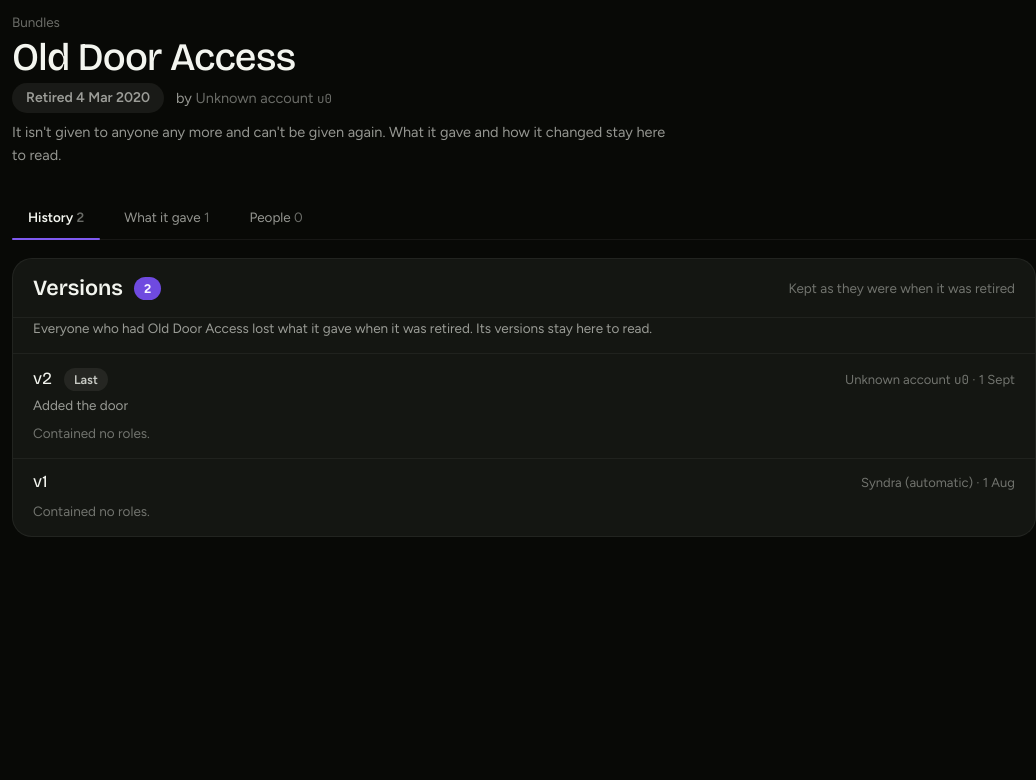
Test: a retired bundle's page › reads what it gave in its last version, and says nobody has it
The image size is (1036, 780).
Click the button "What it gave 1" at coordinates (167, 217), box [108,195,226,239]
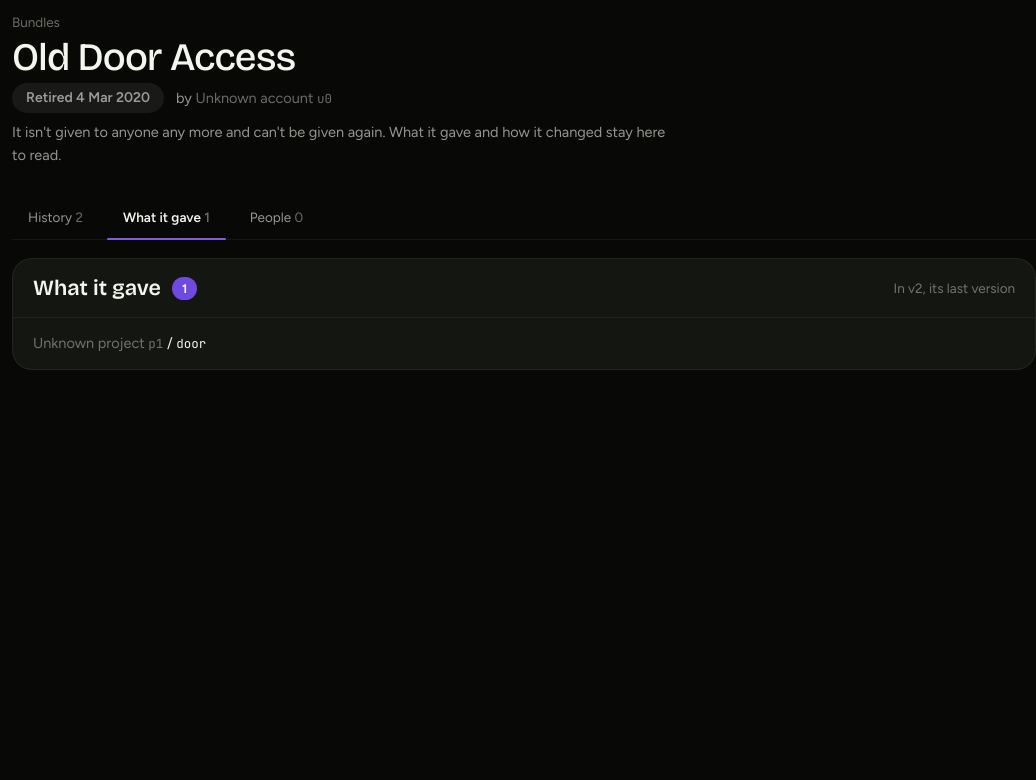
Expected: the text "door" is shown, [176,335,206,352]
Result: the text "In v2, its last version" is shown at [894,278,1015,299]
Click the button "People 0" at coordinates (276, 217), box [234,195,319,239]
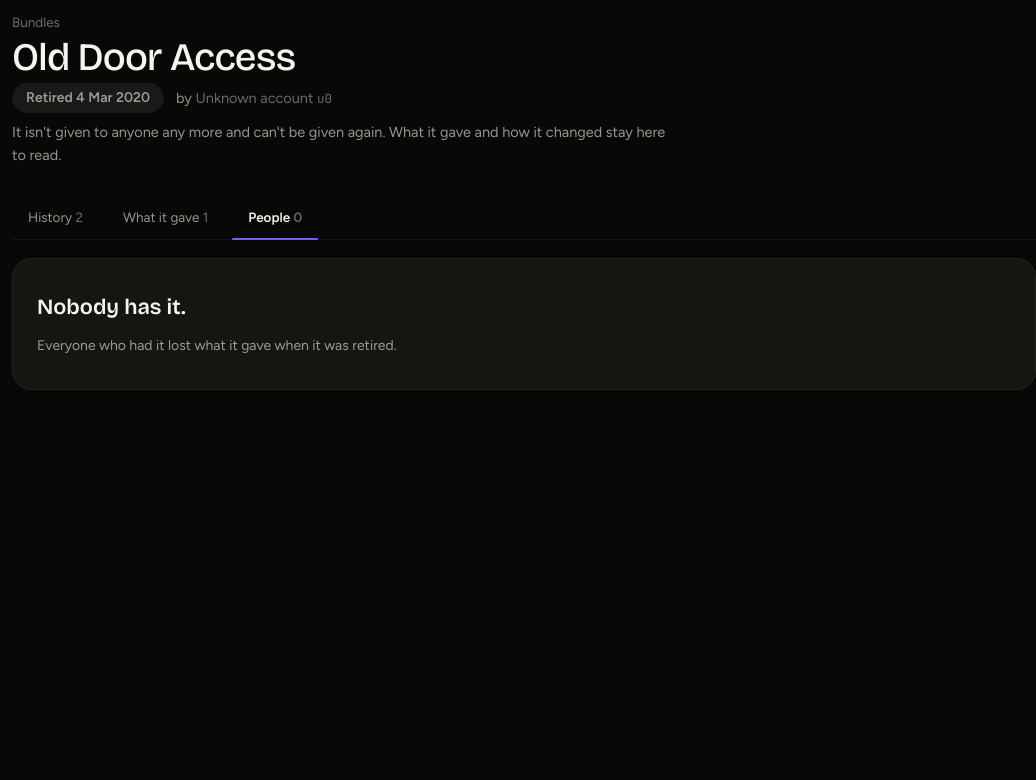
Result: the text "Nobody has it." is shown at [37,291,186,325]
